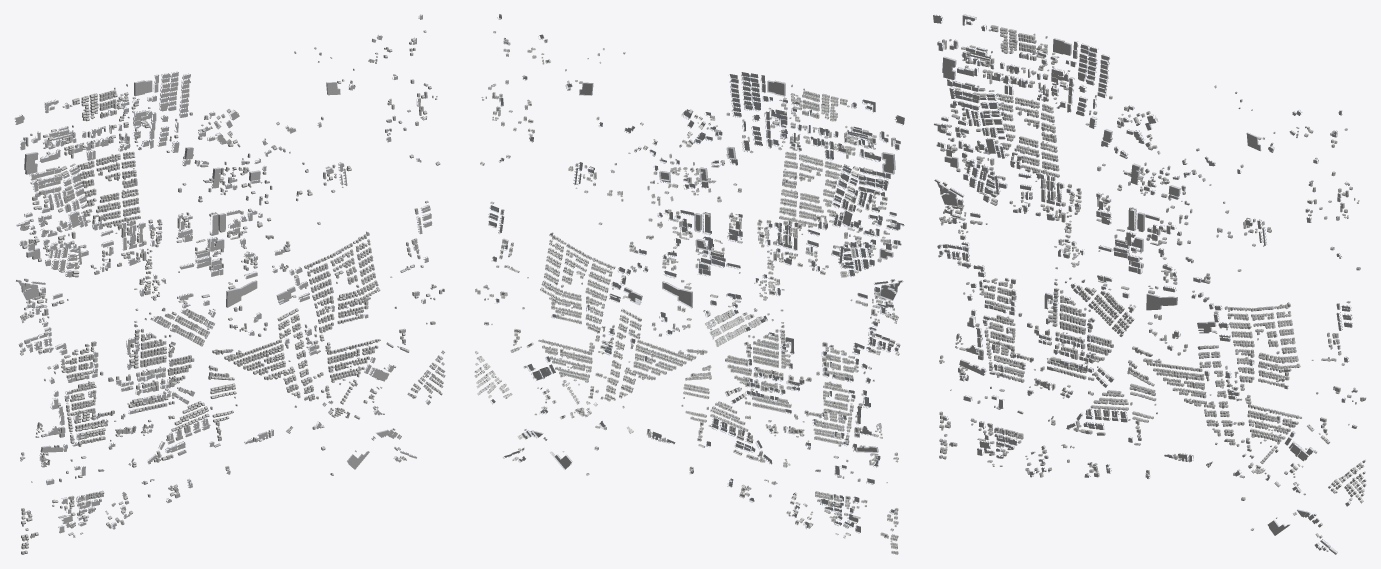
Rendered from buildings_0_1.obj.
3 views of the same model, side by side, from view 1: azimuth 30°, elevation 25°; view 2: azimuth 150°, elevation 25°; view 3: azimuth 330°, elevation 25° (orthographic).
Size of the model in its own units: 2033 by 2017 by 25.02.
Materials: 5 (5 with a texture image).
